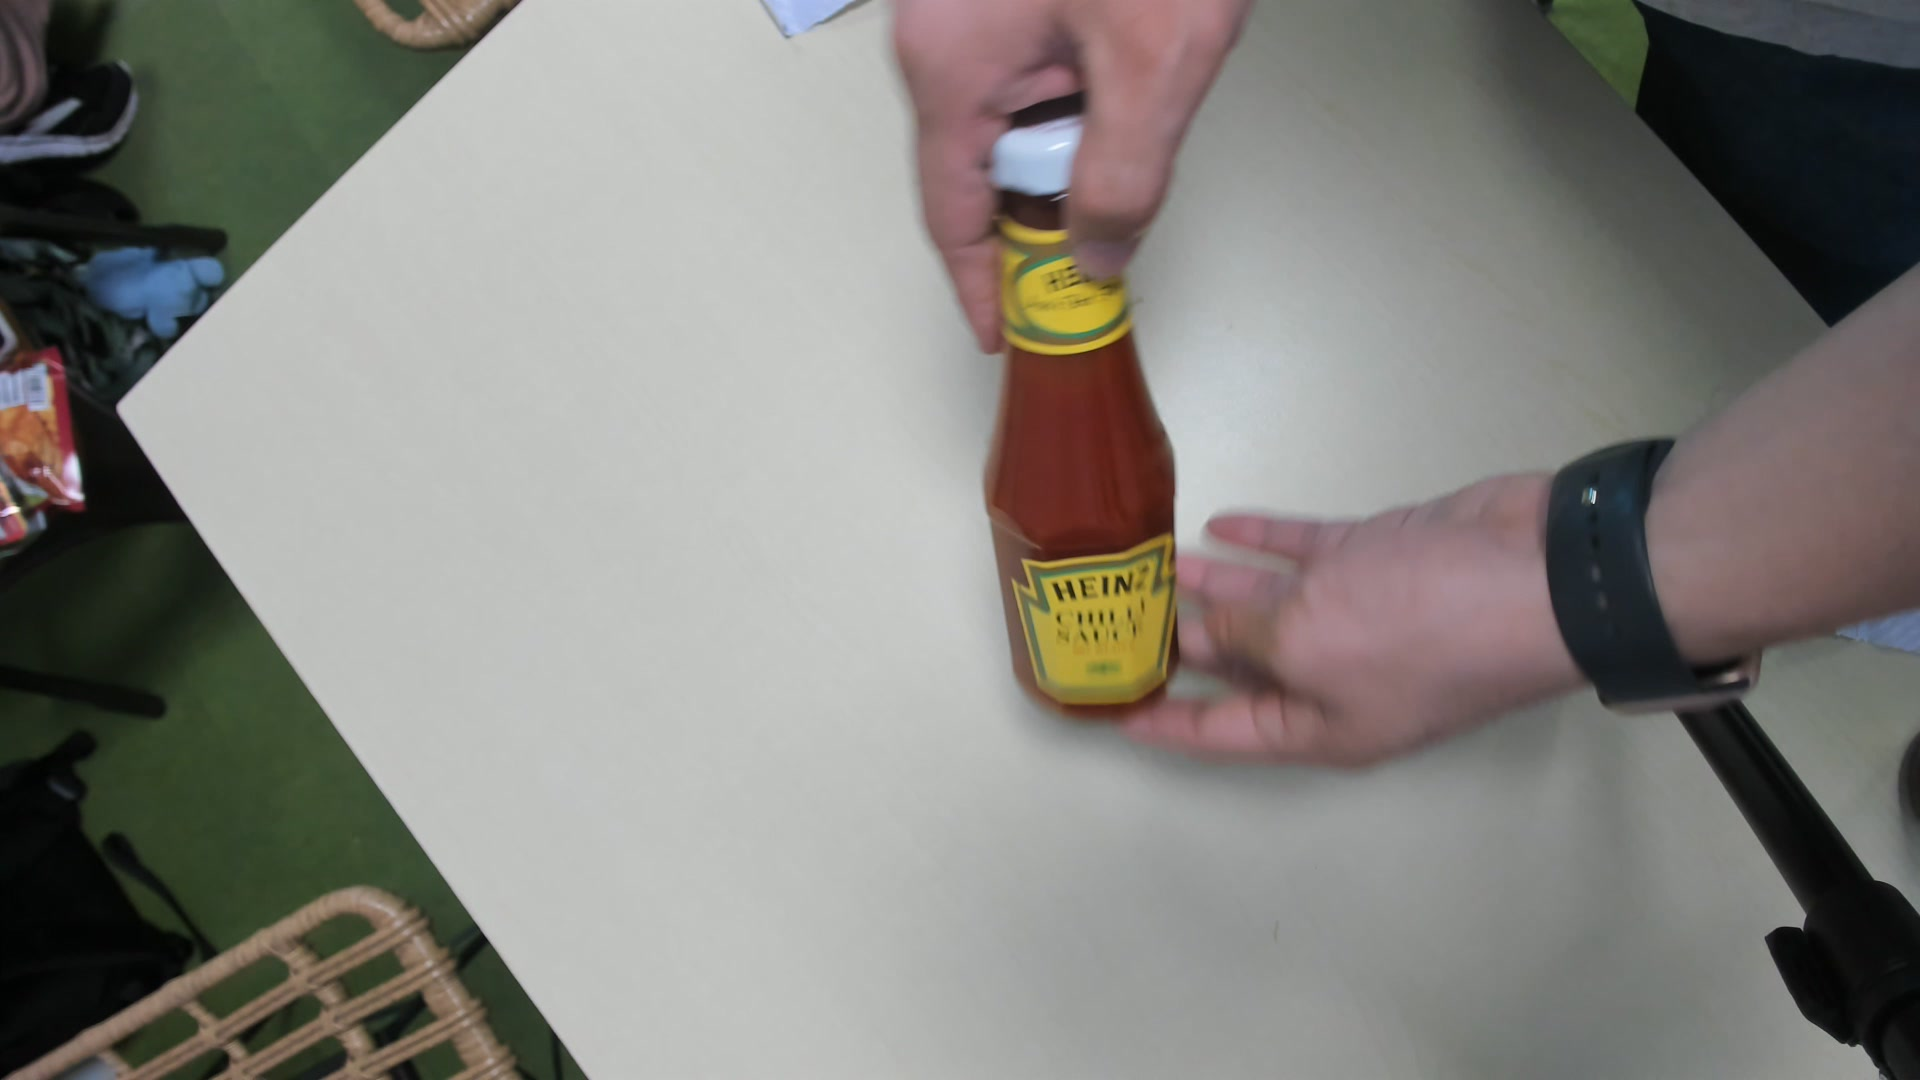KetchupChillSauce_300-399g_Halal_NonHealthy: (984, 120, 1187, 720)
